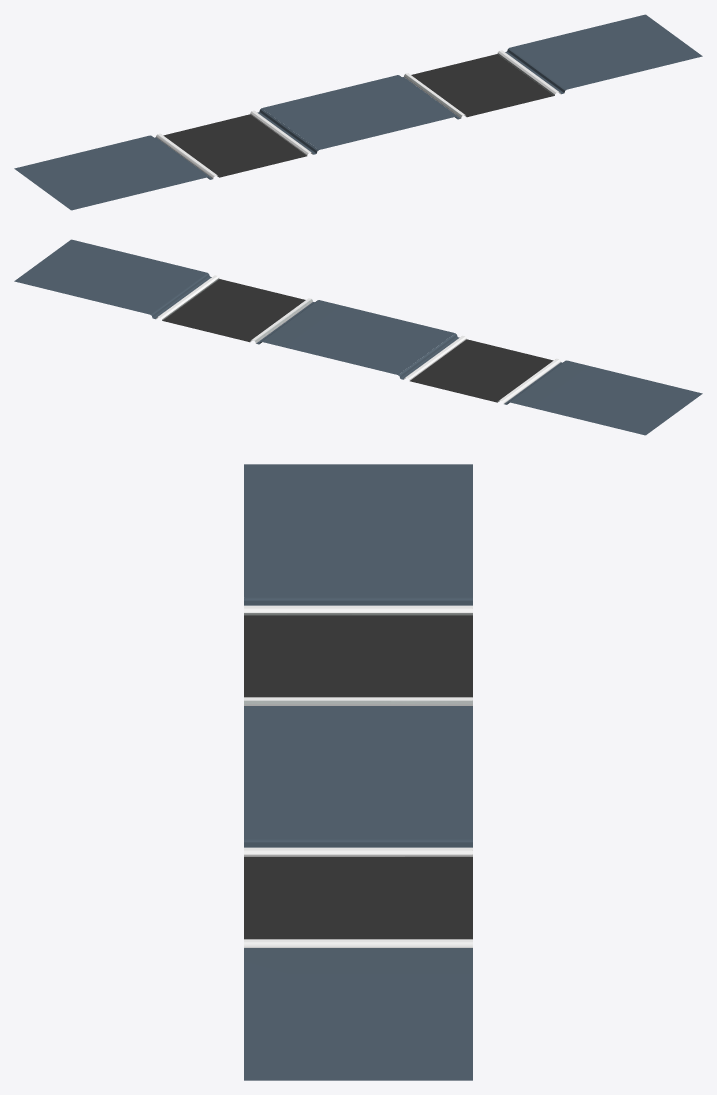
File: floor_single_wide.fbx
3 renders of one model, top to bottom at view 1: azimuth 30°, elevation 25°; view 2: azimuth 150°, elevation 25°; view 3: azimuth 270°, elevation 25°, orthographic. The views are drawn at different scales.
Visible parts, largest first — view 1: floor_1piece1; view 2: floor_1piece1; view 3: floor_1piece1.
Part boxes in pixels (x1=…): floor_1piece1: x1=14, y1=14, x2=702, y2=210; floor_1piece1: x1=14, y1=239, x2=702, y2=435; floor_1piece1: x1=244, y1=464, x2=472, y2=1080.
Size of the model in its own units: 66.85 by 0.3415 by 10.5.
